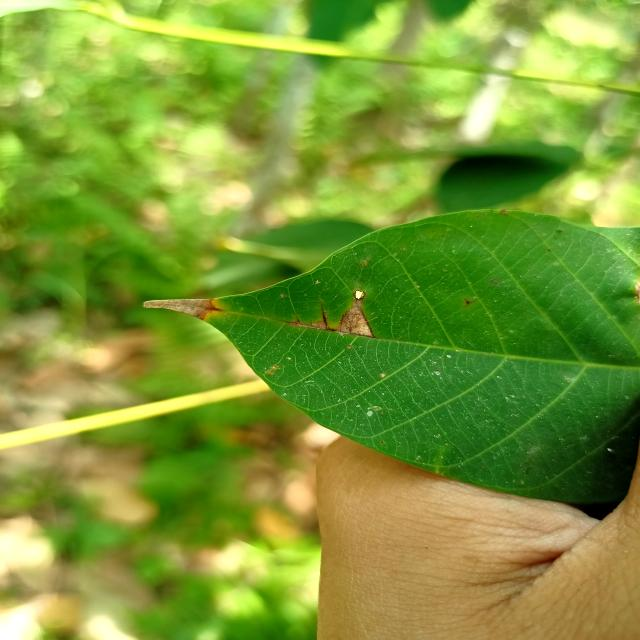Corynespora: (320, 300, 329, 330)
Leaf-Blight: (143, 298, 220, 322), (337, 298, 374, 338), (293, 320, 327, 330)
